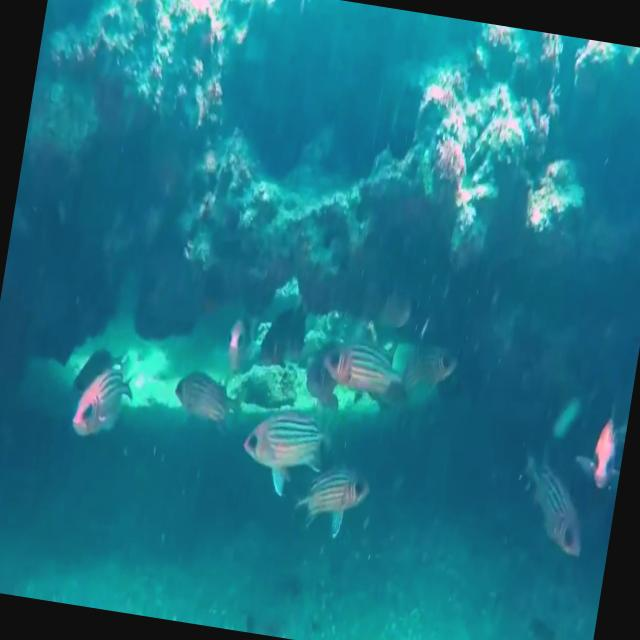Asker Baligi: (502, 437, 597, 587), (308, 310, 419, 416), (284, 439, 374, 554), (234, 399, 330, 502), (59, 352, 140, 454), (169, 363, 242, 434)
